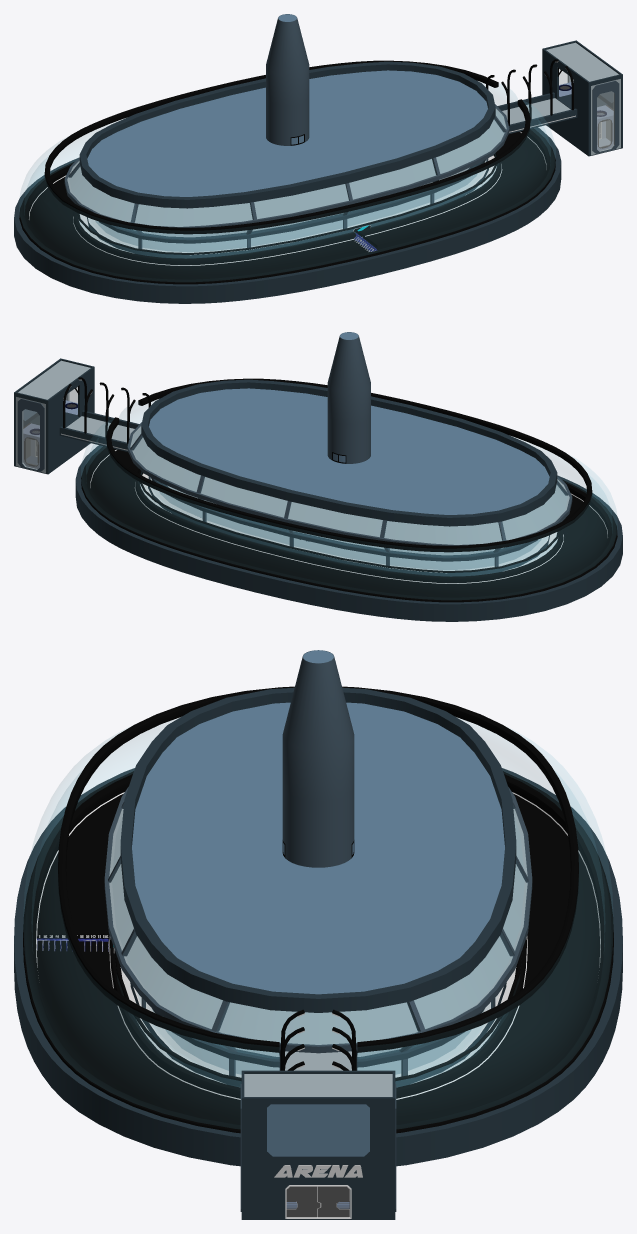
File: New Arena 2.fbx
3 views of the same model, one above another, from view 1: azimuth 30°, elevation 25°; view 2: azimuth 150°, elevation 25°; view 3: azimuth 270°, elevation 25° (orthographic). The views are drawn at different scales.
Parts seen in each view (by area): view 1: Circle.015, Circle.014, Circle.001, Circle.018; view 2: Circle.015, Circle.014, Circle.001, Circle.017; view 3: Circle.015, Circle.014, Circle.001, Circle.021, Circle.009, Circle.010.
Part boxes in pixels (bbox=[...]): Circle.015: bbox=[14, 40, 622, 303]; Circle.014: bbox=[29, 131, 545, 279]; Circle.001: bbox=[266, 14, 309, 145]; Circle.018: bbox=[597, 105, 613, 150]; Circle.015: bbox=[14, 358, 622, 621]; Circle.014: bbox=[91, 449, 607, 597]; Circle.001: bbox=[327, 332, 370, 463]; Circle.017: bbox=[23, 423, 39, 468]; Circle.015: bbox=[14, 686, 622, 1219]; Circle.014: bbox=[36, 794, 600, 1124]; Circle.001: bbox=[282, 650, 354, 867]; Circle.021: bbox=[267, 1104, 369, 1156]; Circle.009: bbox=[286, 1186, 320, 1217]; Circle.010: bbox=[317, 1186, 349, 1217].
Bounding box in the file's own units: 128 × 41.13 × 72.77.
